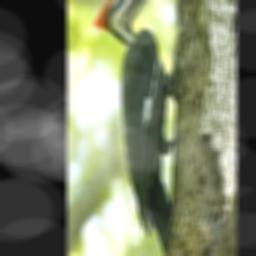Woodpecker: (92, 0, 178, 256)
